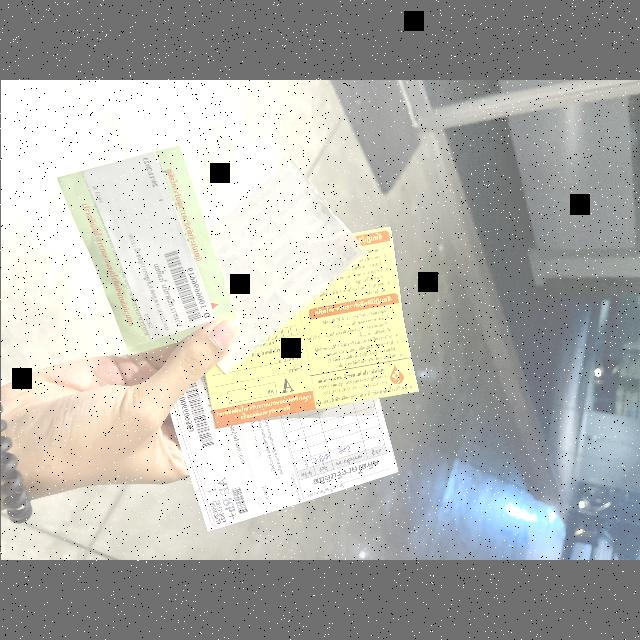scrap_paper: (200, 227, 414, 433), (49, 143, 234, 355), (183, 351, 395, 525), (196, 158, 367, 366)
